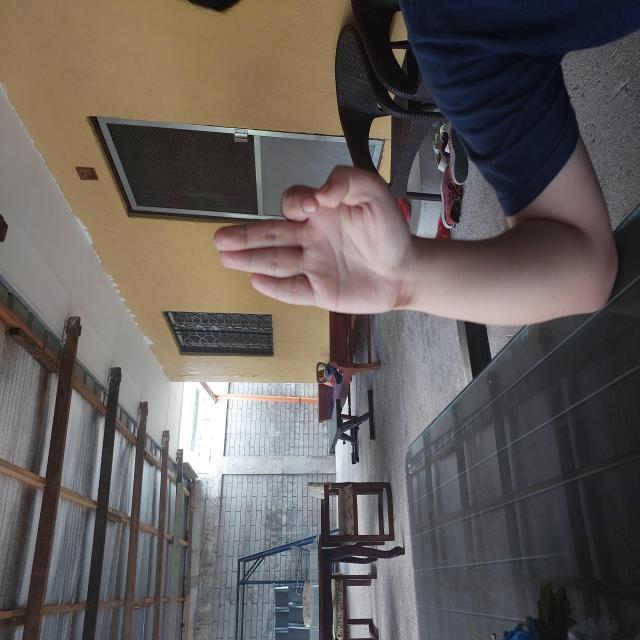F: (324, 210, 478, 418)
